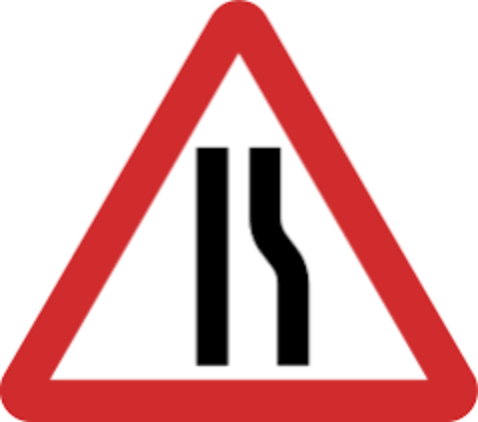Narrow_road: (1, 4, 477, 420)
